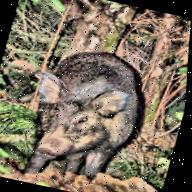boar: (1, 25, 162, 192)
